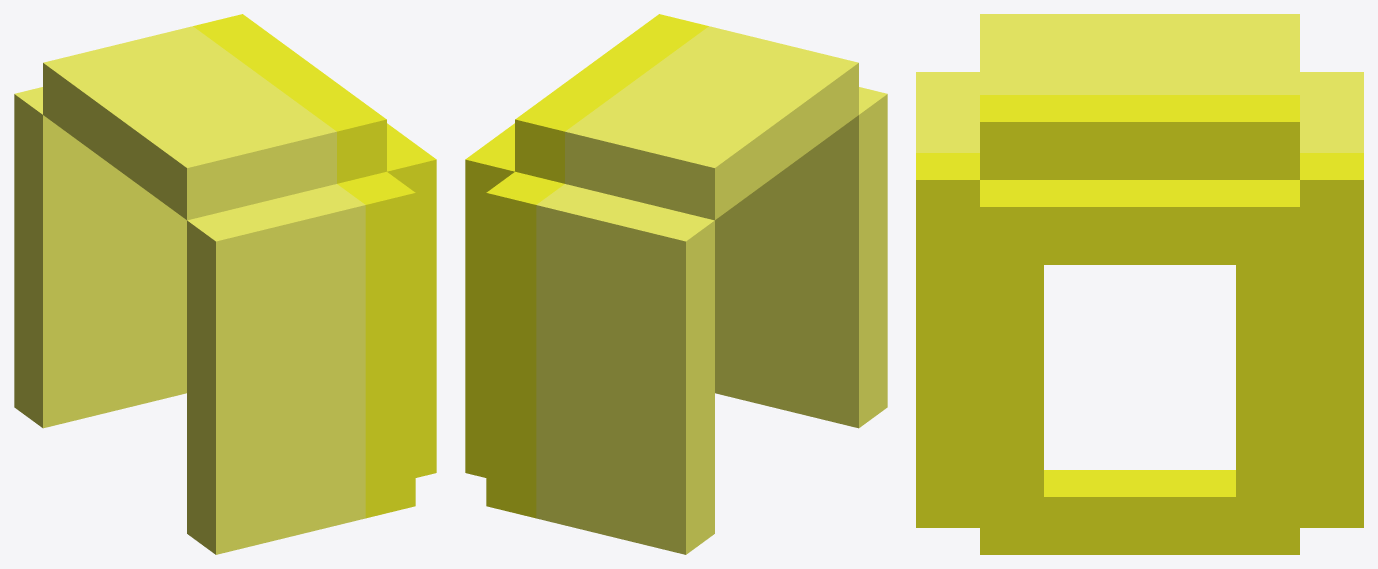
File: HadaNivel5-3.obj
3 renders of one model, left to right at view 1: azimuth 30°, elevation 25°; view 2: azimuth 150°, elevation 25°; view 3: azimuth 270°, elevation 25°, orthographic. The views are drawn at different scales.
Bounding box in the file's own units: 0.5 × 0.7 × 0.7.
1 material, 1 textured.
